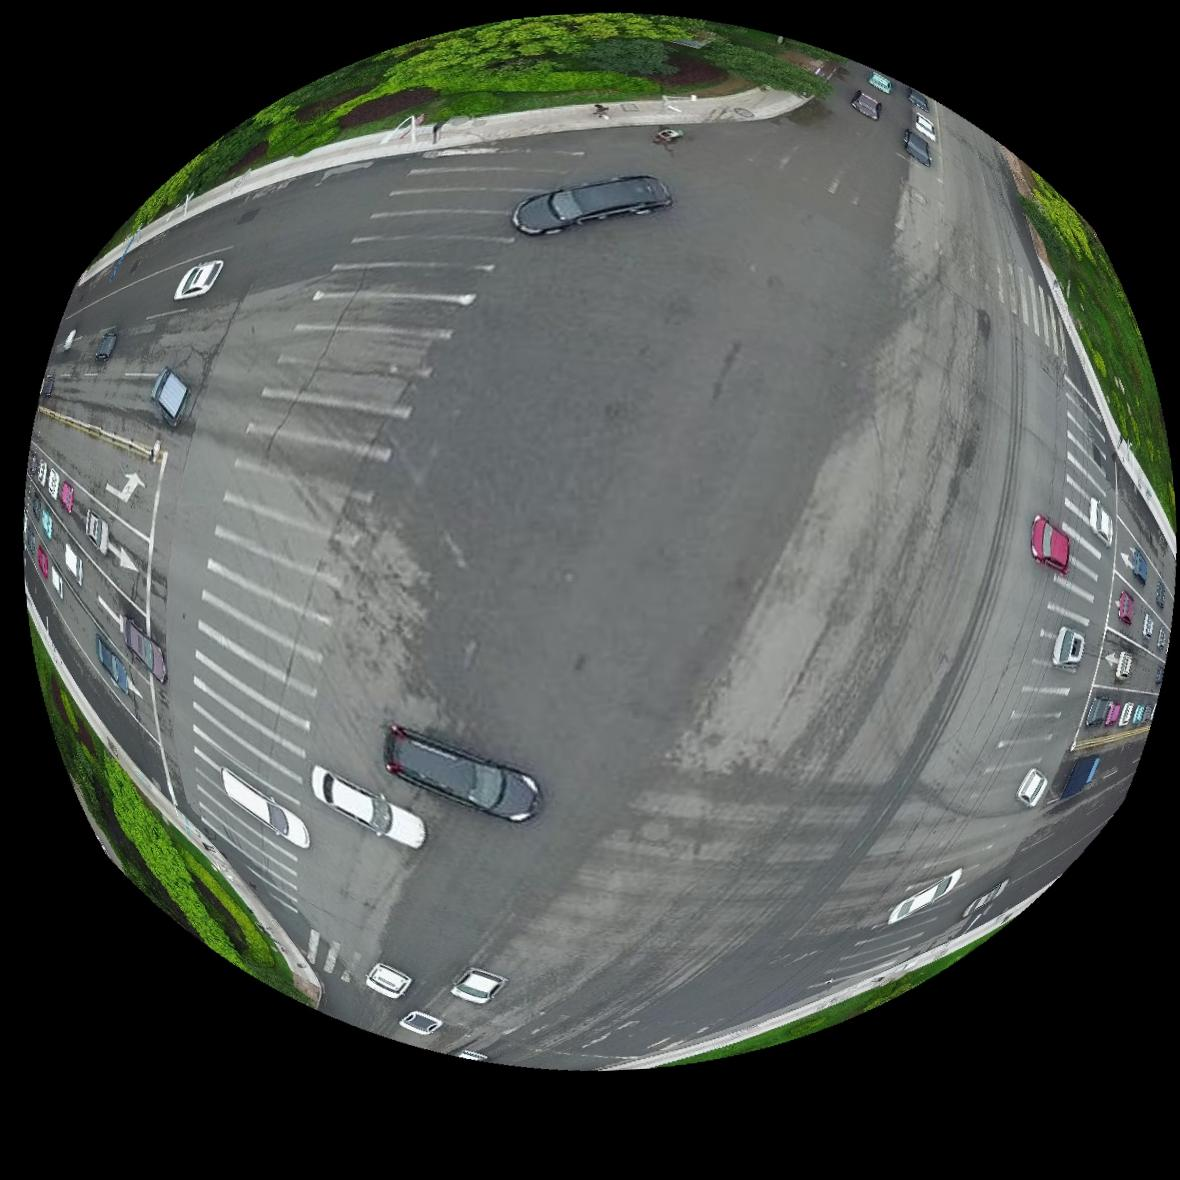cars: (385, 726, 540, 822), (513, 174, 673, 234), (311, 767, 425, 848), (222, 769, 308, 849), (890, 870, 964, 926), (121, 617, 165, 684), (1034, 515, 1072, 574), (95, 636, 130, 695), (151, 367, 187, 422), (173, 260, 222, 299), (451, 971, 505, 1006), (1064, 757, 1102, 800), (367, 966, 412, 1000), (1054, 627, 1087, 669), (1019, 770, 1051, 809), (1093, 499, 1116, 545), (399, 1013, 443, 1037), (84, 510, 107, 554), (1109, 651, 1135, 681), (64, 544, 82, 585), (1087, 699, 1112, 727), (1120, 589, 1139, 625), (1132, 548, 1150, 584), (94, 332, 114, 360), (59, 481, 72, 513), (39, 507, 52, 539), (35, 546, 48, 578), (46, 468, 58, 498), (50, 567, 61, 598), (1121, 704, 1134, 728)
trees: (121, 12, 836, 237), (34, 628, 320, 1006), (1021, 171, 1176, 523)
